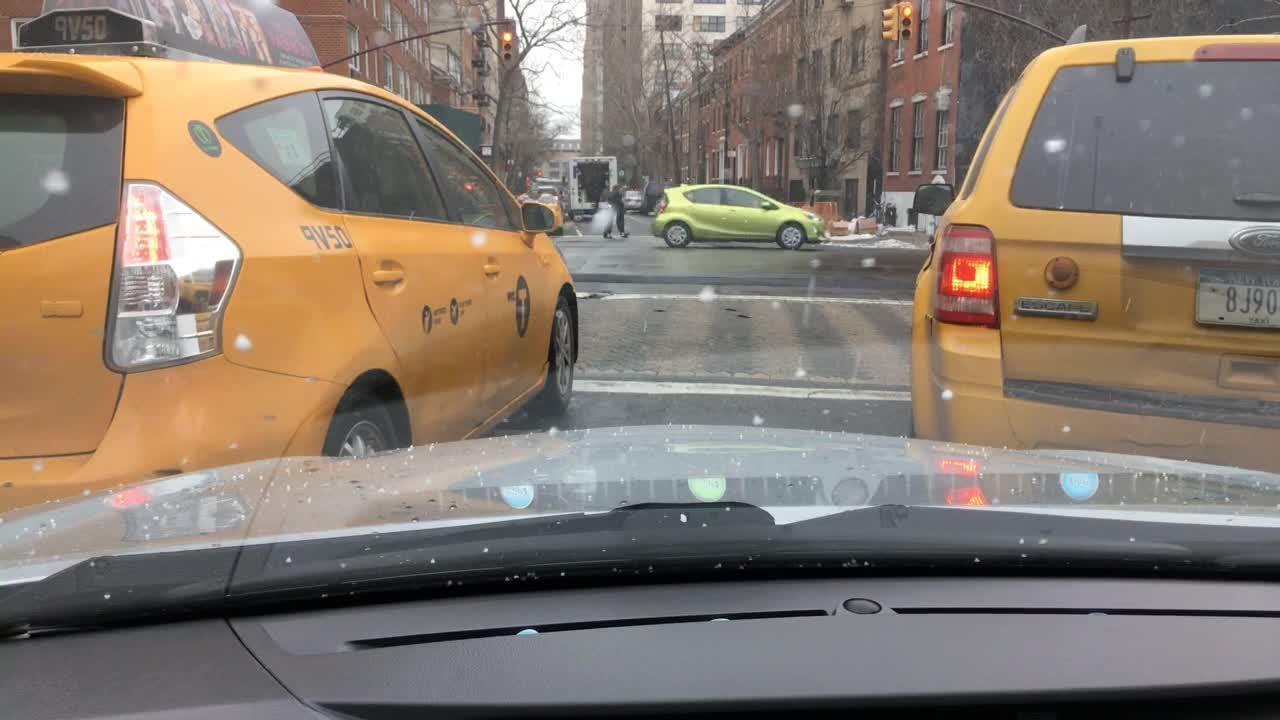ford: (1214, 222, 1280, 268)
